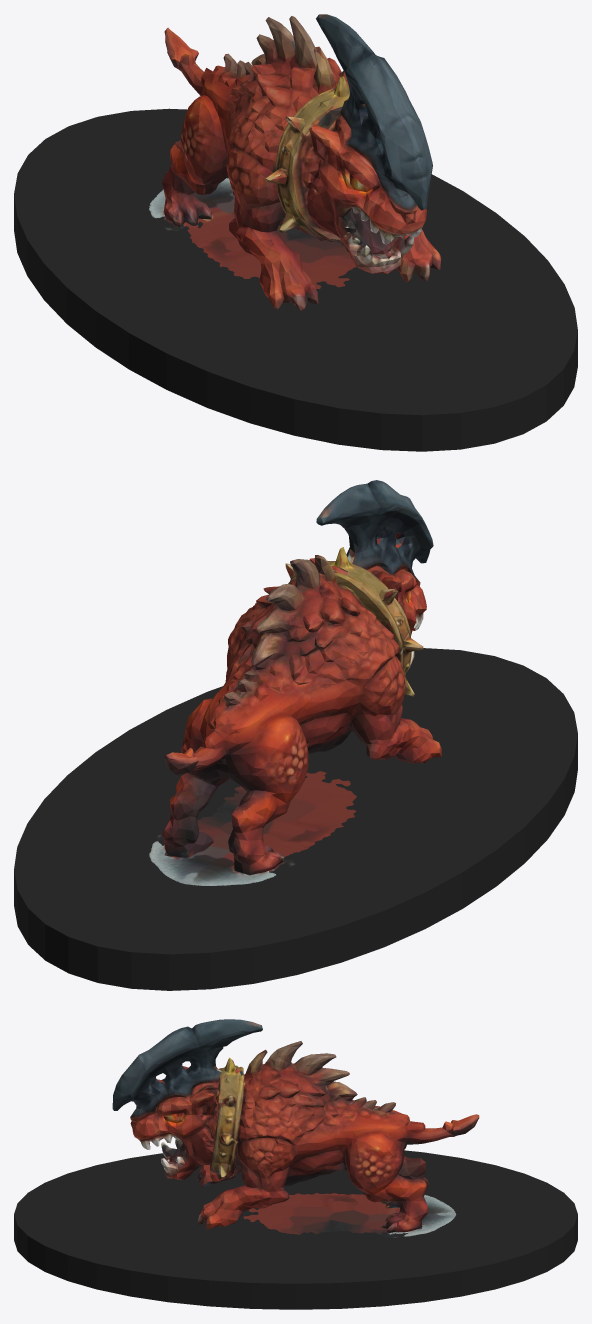
The model's file is flesh-hound.glb.
3 renders of one model, top to bottom at view 1: azimuth 30°, elevation 25°; view 2: azimuth 150°, elevation 25°; view 3: azimuth 270°, elevation 25°, orthographic. The views are drawn at different scales.
Parts seen in each view (by area): view 1: base, figure; view 2: base, figure; view 3: base, figure.
Part boxes in pixels (box(x1,y1,x2,y2)): base: box(14, 108, 577, 451); figure: box(149, 14, 441, 310); base: box(14, 648, 577, 990); figure: box(149, 480, 441, 885); base: box(14, 1150, 577, 1309); figure: box(112, 1019, 479, 1237).
Bounding box in the file's own units: 1.38 × 1.02 × 2.36.
Materials: 2 (1 with a texture image).
